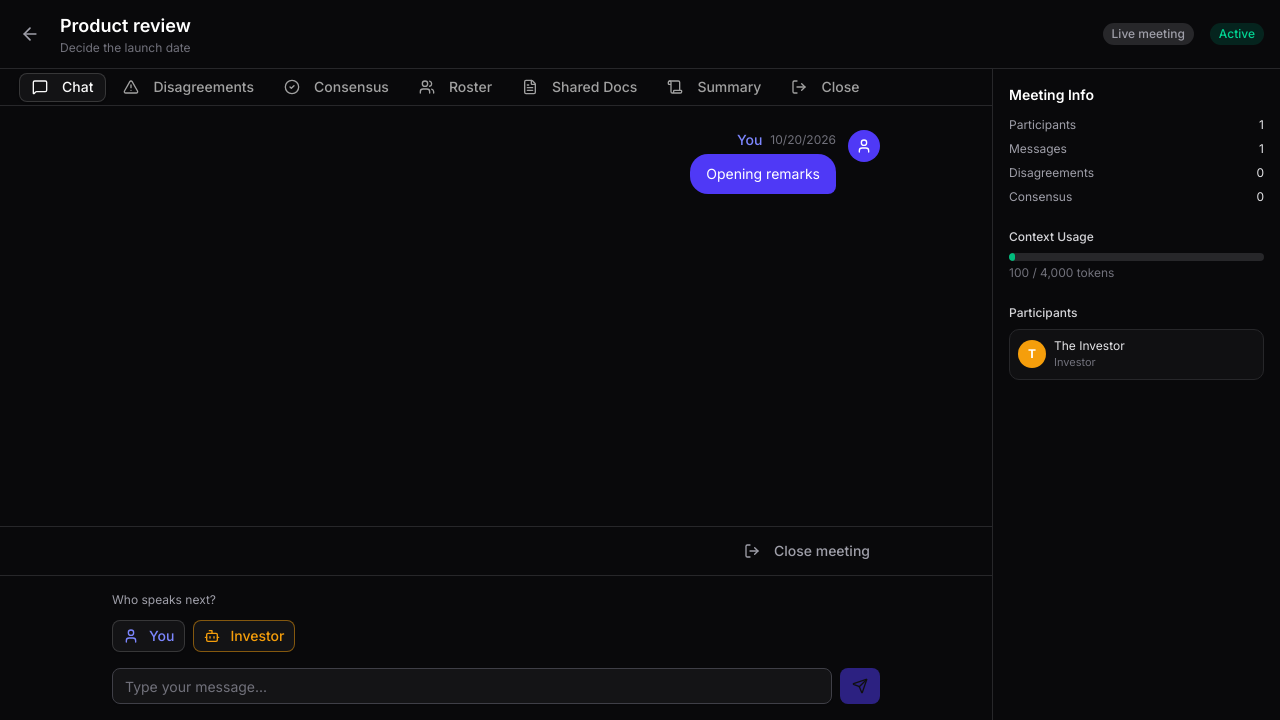
Scenario: MeetingRoom › keeps an interim summary separate from closing the meeting
This screenshot has width=1280, height=720.
Expected: the heading "Product review" is shown, top-left (60, 15), bottom-right (191, 36)
Step 1. Press the mouse on the tab "Summary" → (714, 87), box top-left (654, 72), bottom-right (774, 102)
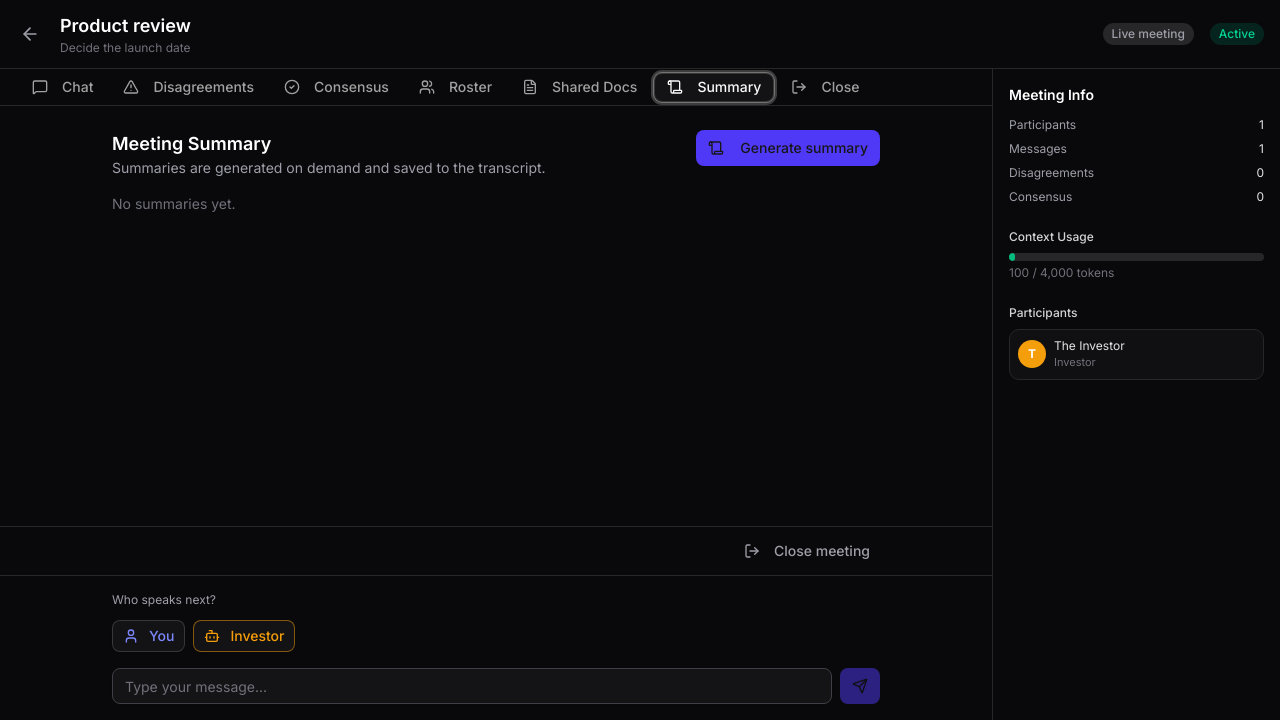
Step 2. Click the button "Generate summary" → click(788, 148), box top-left (696, 130), bottom-right (880, 166)
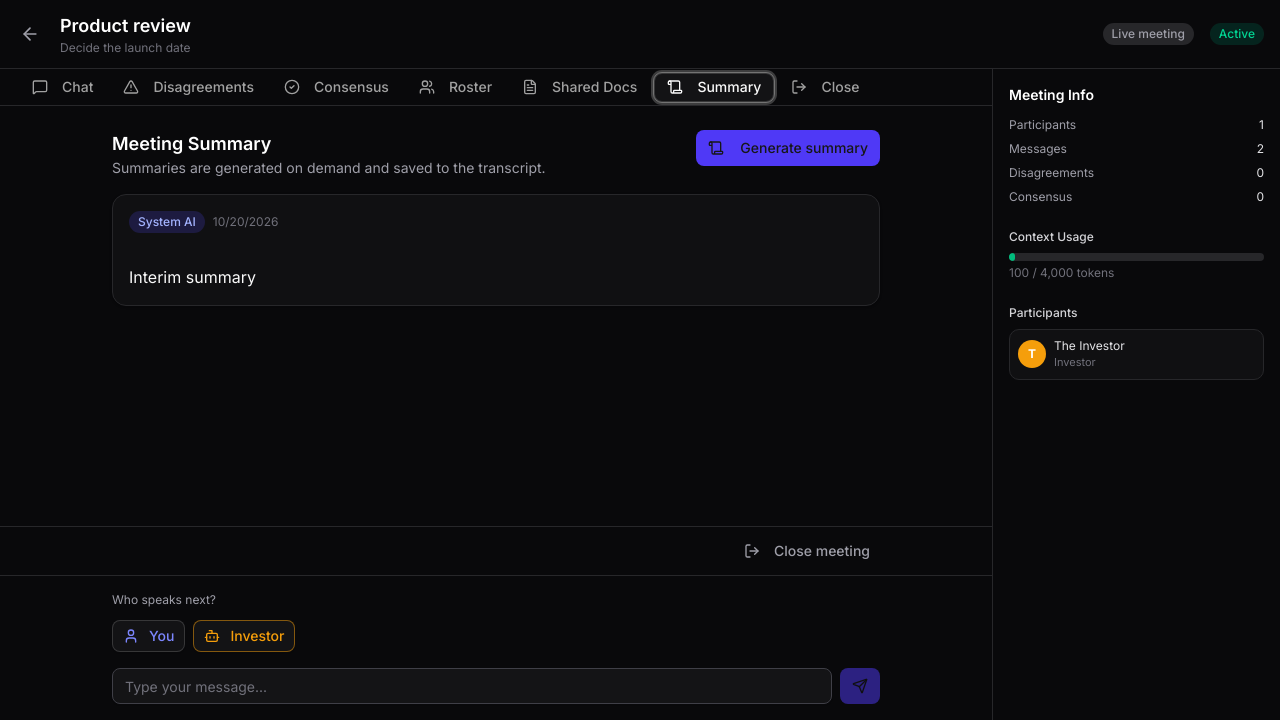
Expected: the field with placeholder "Type your message..." is shown, top-left (112, 668), bottom-right (832, 704)
Expected: the text "Interim summary" is shown, top-left (129, 267), bottom-right (256, 287)
